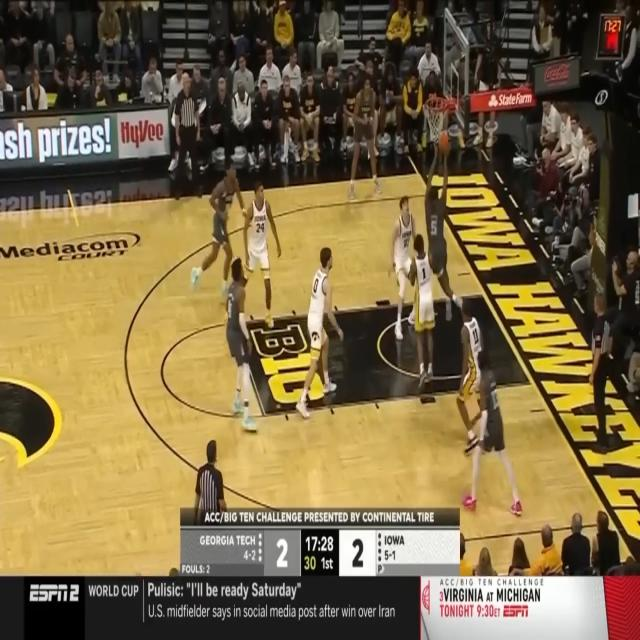Ball: (438, 131, 448, 151)
Clock: (596, 15, 626, 60)
Hoop: (424, 96, 449, 142)
Overlay: (0, 575, 640, 640), (180, 507, 460, 576)
Player: (461, 349, 523, 515), (297, 247, 343, 419), (190, 160, 244, 300), (425, 142, 466, 324), (235, 180, 281, 329), (226, 258, 259, 433), (456, 297, 488, 456), (388, 195, 420, 341), (349, 75, 383, 200), (409, 232, 434, 392)
Ref: (588, 292, 612, 453), (175, 72, 202, 202), (194, 440, 227, 508)
Scoreboard: (180, 530, 460, 576)
